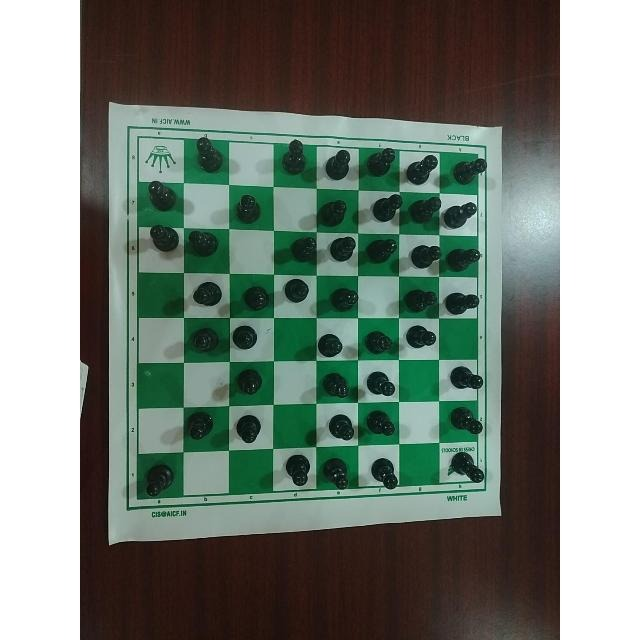black-pawn: (188, 133, 226, 177), (141, 460, 179, 497), (450, 154, 489, 190), (447, 449, 484, 485), (402, 151, 439, 186), (447, 404, 485, 437), (408, 194, 442, 230), (324, 144, 355, 183), (364, 144, 396, 181), (445, 362, 483, 393), (278, 139, 307, 179), (362, 237, 398, 269), (367, 455, 399, 491), (279, 452, 311, 487), (321, 455, 353, 490), (316, 194, 348, 228), (445, 196, 477, 230), (403, 324, 437, 356), (184, 411, 218, 443), (362, 369, 398, 399), (145, 180, 178, 212), (191, 278, 224, 310), (371, 193, 405, 224), (402, 288, 439, 316), (188, 229, 220, 261), (324, 411, 356, 443), (147, 221, 180, 252), (409, 239, 442, 270), (444, 288, 480, 316), (240, 283, 271, 315), (446, 245, 482, 272), (234, 414, 265, 445), (234, 369, 266, 399), (364, 409, 396, 439), (319, 371, 353, 399), (232, 192, 261, 224), (325, 236, 357, 264), (188, 326, 220, 354), (286, 235, 317, 263), (281, 277, 311, 305), (327, 285, 358, 312), (363, 329, 395, 355), (230, 324, 259, 351), (316, 332, 343, 360)
